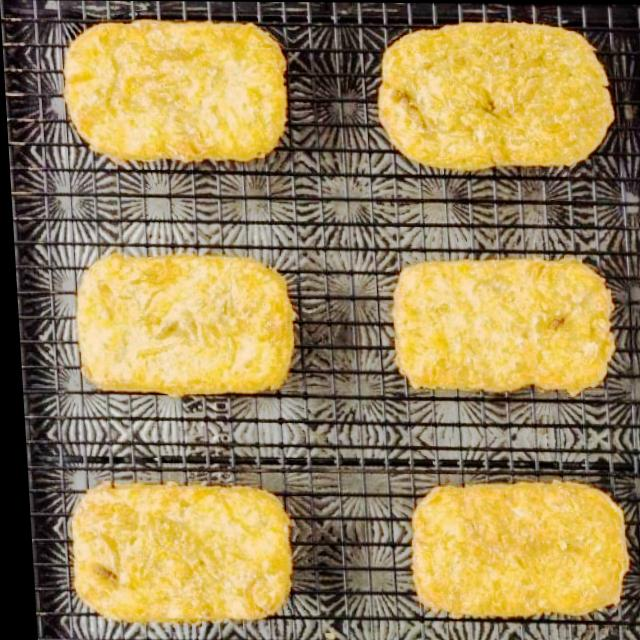Hashbrown: (372, 24, 618, 170), (62, 17, 291, 165), (69, 484, 293, 623), (77, 255, 297, 395), (393, 256, 615, 392), (408, 481, 628, 618)
